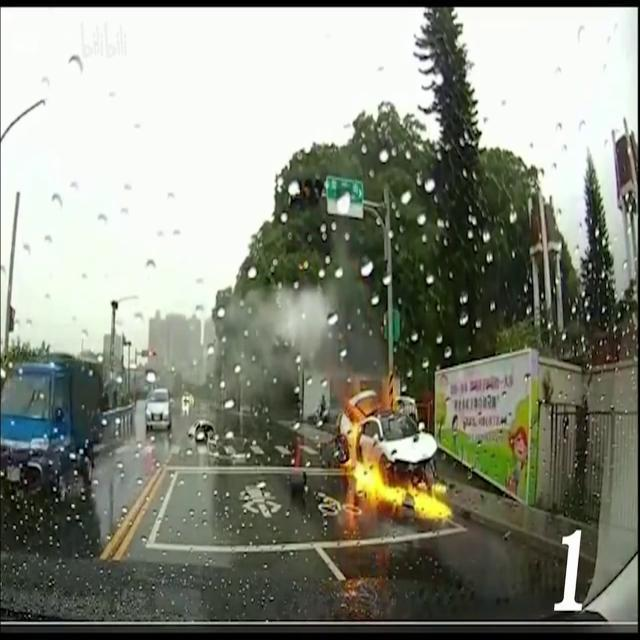multiple_accident: (319, 357, 507, 620)
normal: (0, 329, 237, 499)
